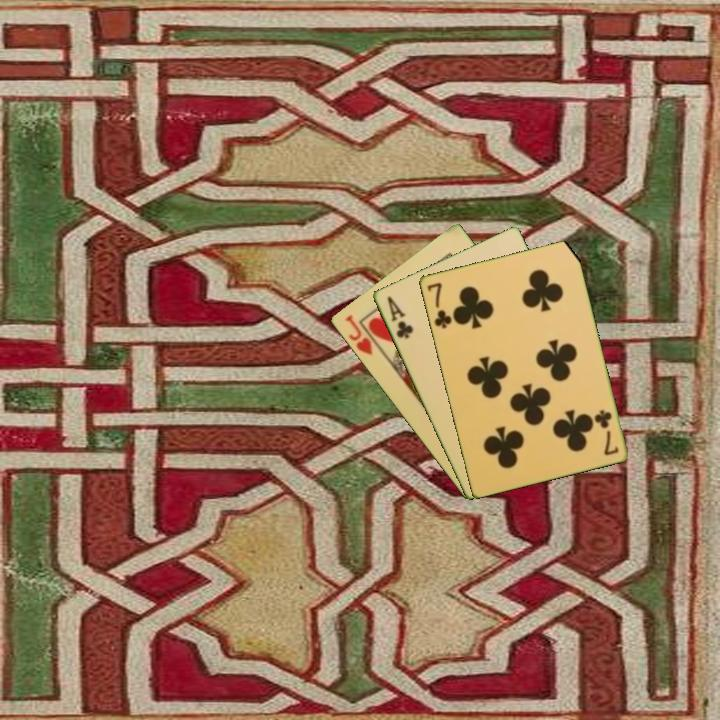7c: (423, 279, 454, 331), (591, 406, 621, 458)
Ac: (383, 292, 416, 341)
Jh: (341, 311, 375, 358)
